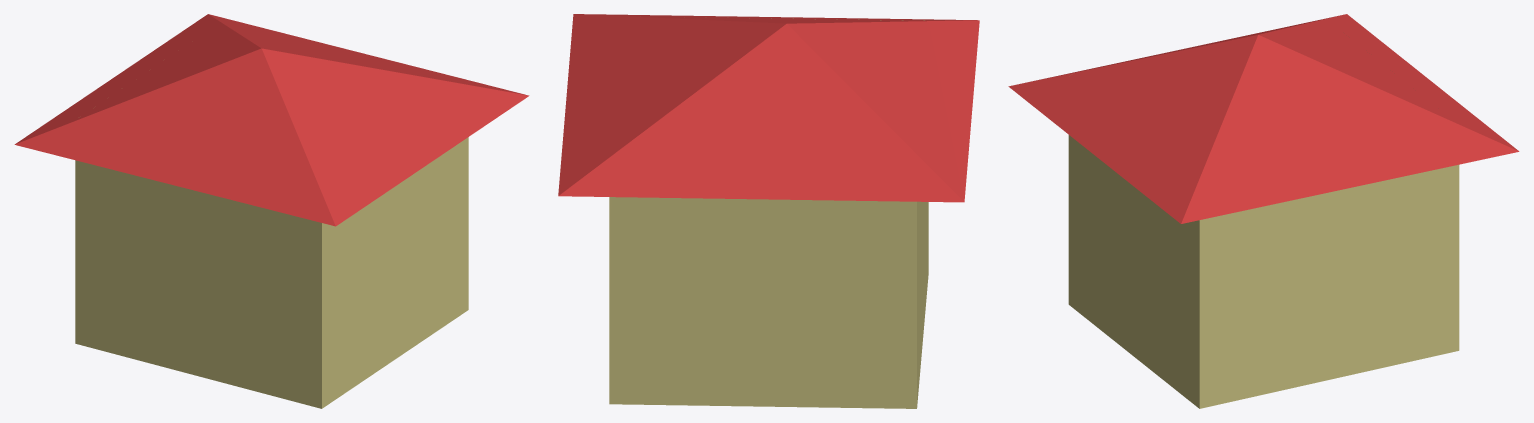
3 views of the same model, side by side, from view 1: azimuth 30°, elevation 25°; view 2: azimuth 150°, elevation 25°; view 3: azimuth 270°, elevation 25° (orthographic). The views are drawn at different scales.
Size of the model in its own units: 11.31 by 11.44 by 7.07.
